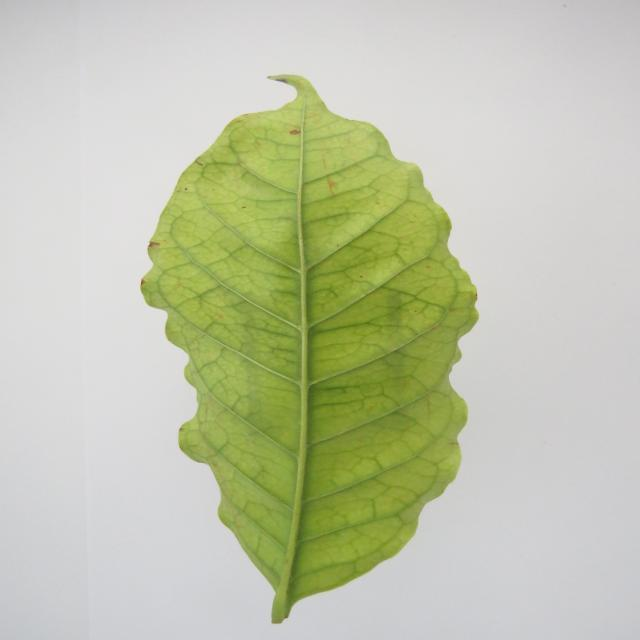DeficienciaNutricional-Calcio: (142, 75, 477, 622)
